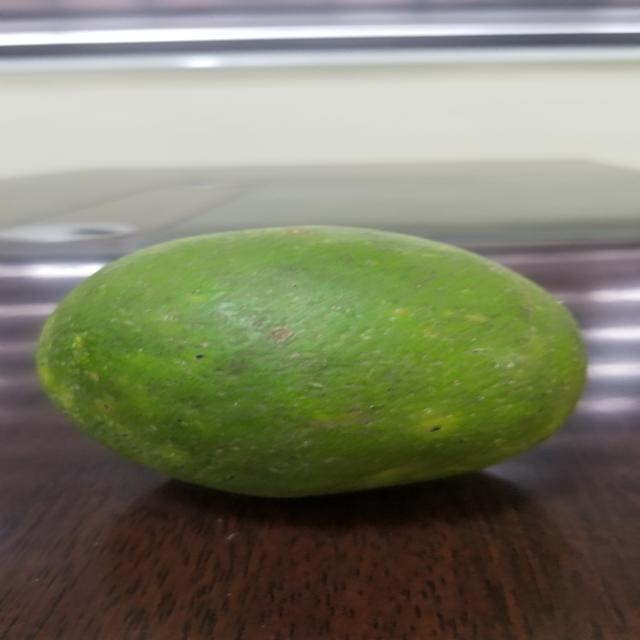Ripe orange: (23, 195, 640, 494)
